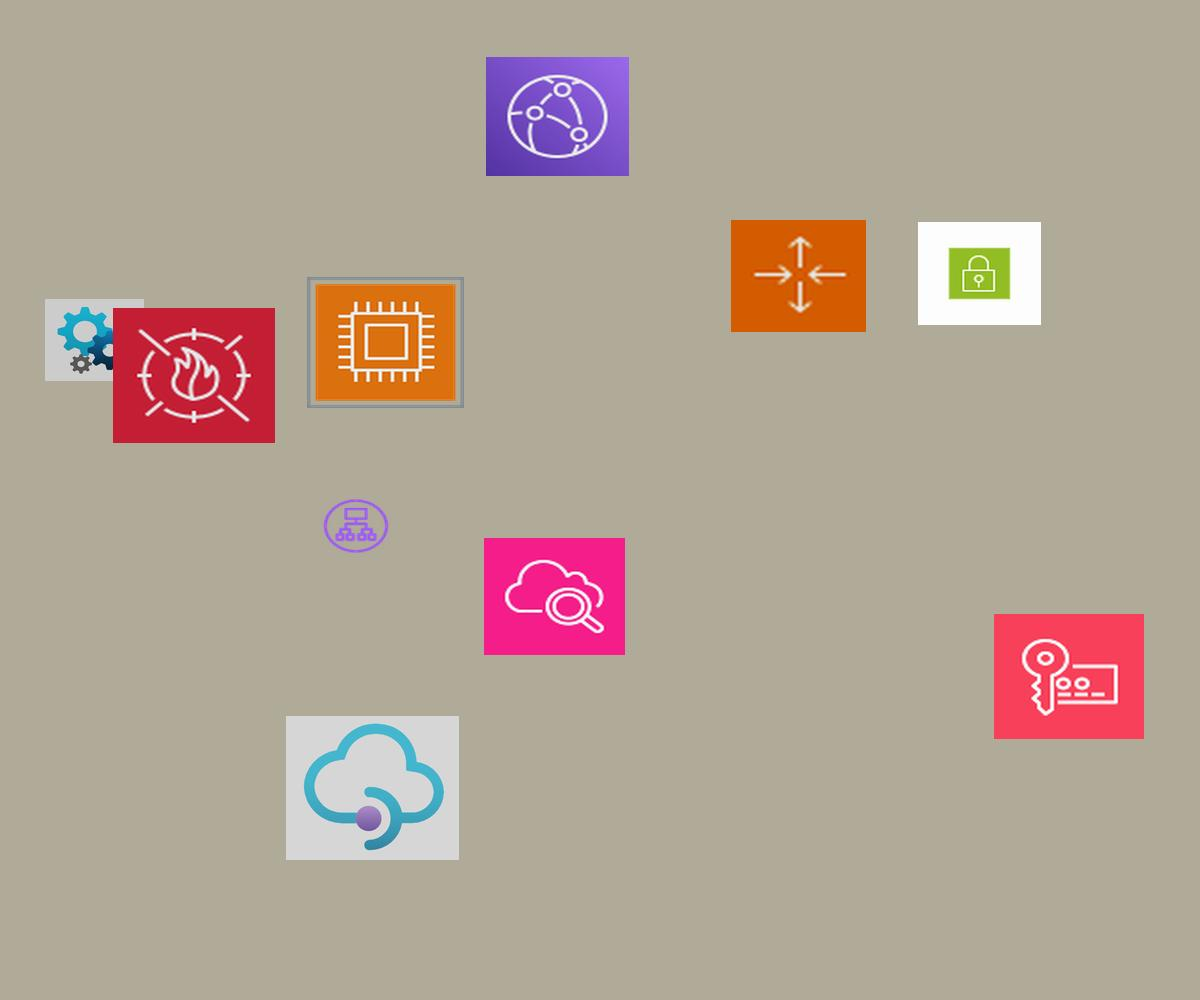AWS-Category_Compute: (307, 277, 464, 408)
AWS-CloudFront: (486, 57, 629, 176)
AWS-CloudWatch: (484, 538, 625, 655)
AWS-Key-Management-Service: (994, 614, 1144, 739)
AWS-Public-subnet: (918, 222, 1041, 325)
AWS-Res_Elastic-Load-Balancing_Application-Load-Balancer: (321, 497, 391, 555)
AWS-Scaling-group: (731, 220, 866, 332)
AWS-WAF: (113, 308, 275, 443)
Azure_api: (45, 299, 144, 381)
Azure_api_gateway: (286, 716, 459, 860)
